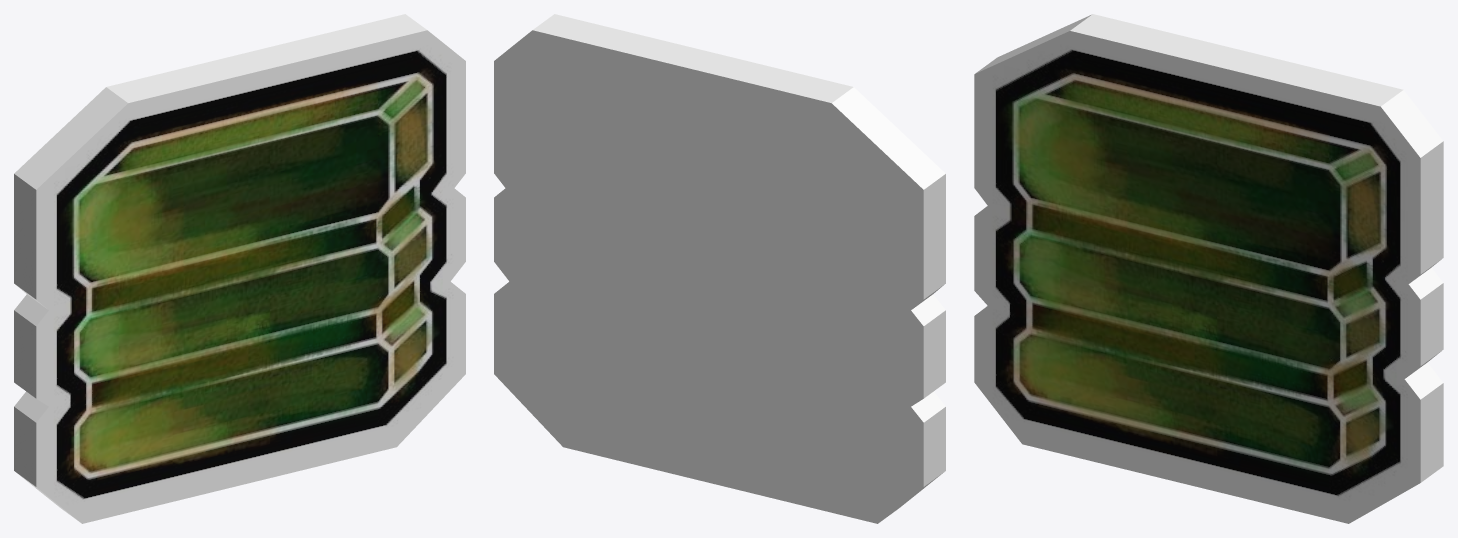
3 renders of one model, left to right at view 1: azimuth 30°, elevation 25°; view 2: azimuth 150°, elevation 25°; view 3: azimuth 330°, elevation 25°, orthographic. The views are drawn at different scales.
Visible parts, largest first — view 1: MeshBody2; view 2: MeshBody2; view 3: MeshBody2.
Boxes of the visible parts, x1,y1,x2,y2 form: MeshBody2: (14, 14, 465, 523); MeshBody2: (494, 14, 945, 523); MeshBody2: (974, 14, 1443, 523).
Bounding box in the file's own units: 0.56 × 0.51 × 0.05.
